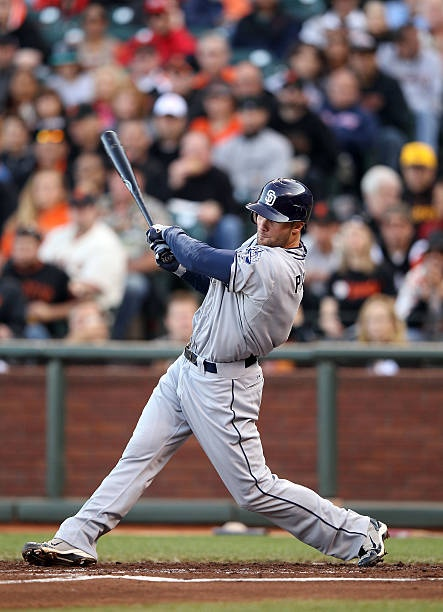bita: (97, 129, 187, 270)
